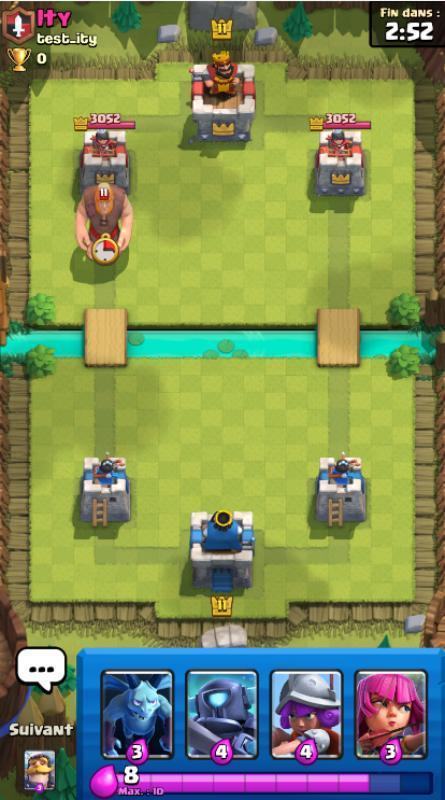enemy_giant: (70, 176, 138, 262)
